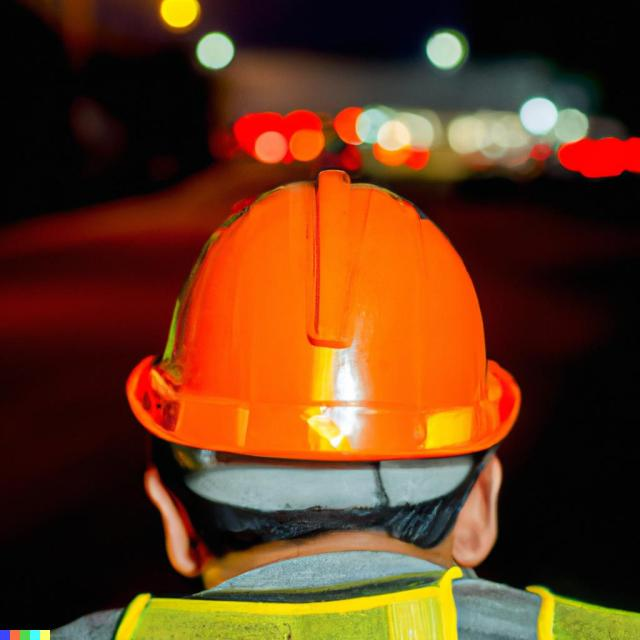Reflective-Jacket: (100, 529, 631, 637)
Safety-Helmet: (125, 176, 517, 471)
